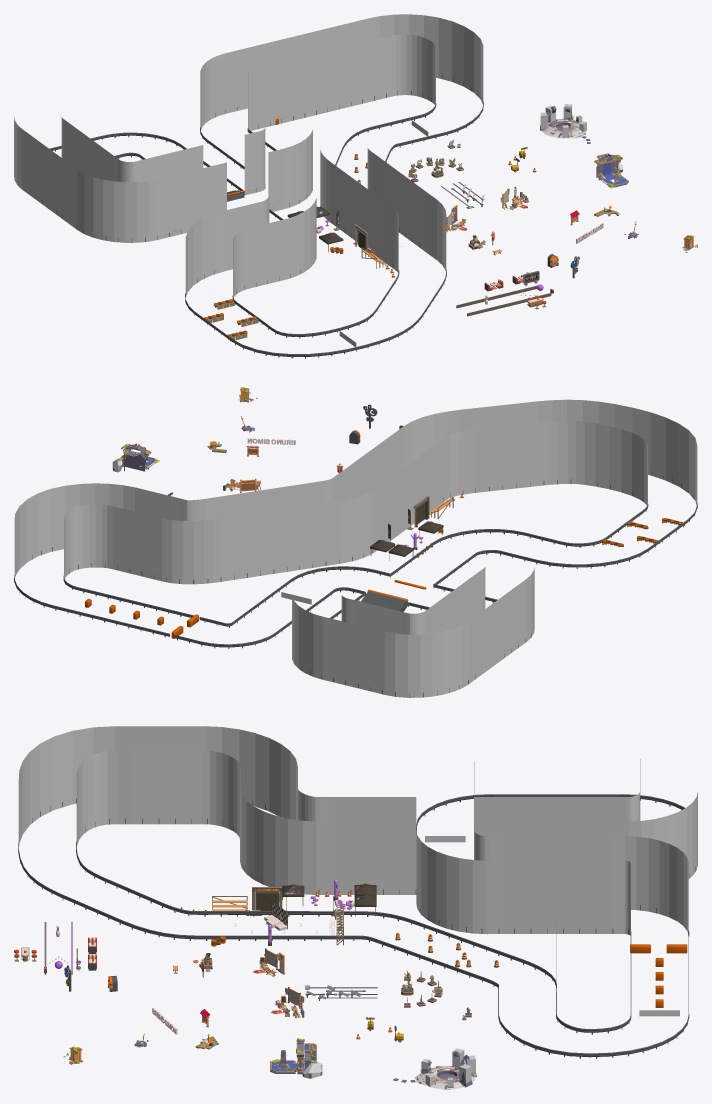
File: areas.glb
3 views of the same model, one above another, from view 1: azimuth 30°, elevation 25°; view 2: azimuth 150°, elevation 25°; view 3: azimuth 270°, elevation 25° (orthographic). The views are drawn at different scales.
Visible parts, largest first — view 1: trimesh, refRailsPhysicalFixed, Cube.089, refBumpersPhysicalKinematicPositionBased, blocks; view 2: trimesh, refRailsPhysicalFixed, Cube.089, jump, Cube.088; view 3: trimesh, refRailsPhysicalFixed, Cube.088, Cube.089, Cube.173.
Part boxes in pixels (x1,y1,x2,y2): trimesh: [14, 14, 483, 297]; refRailsPhysicalFixed: [35, 75, 483, 358]; Cube.089: [594, 153, 628, 188]; refBumpersPhysicalKinematicPositionBased: [456, 285, 551, 316]; blocks: [204, 299, 258, 341]; trimesh: [14, 399, 697, 697]; refRailsPhysicalFixed: [14, 471, 697, 697]; Cube.089: [113, 443, 159, 471]; jump: [361, 580, 426, 611]; Cube.088: [370, 496, 453, 560]; trimesh: [18, 726, 697, 1013]; refRailsPhysicalFixed: [18, 794, 695, 1058]; Cube.088: [211, 887, 375, 946]; Cube.089: [269, 1038, 322, 1078]; Cube.173: [393, 1051, 476, 1088].
Size of the model in its own units: 169 by 22.1 by 169.
Materials: 26 (12 with a texture image).
